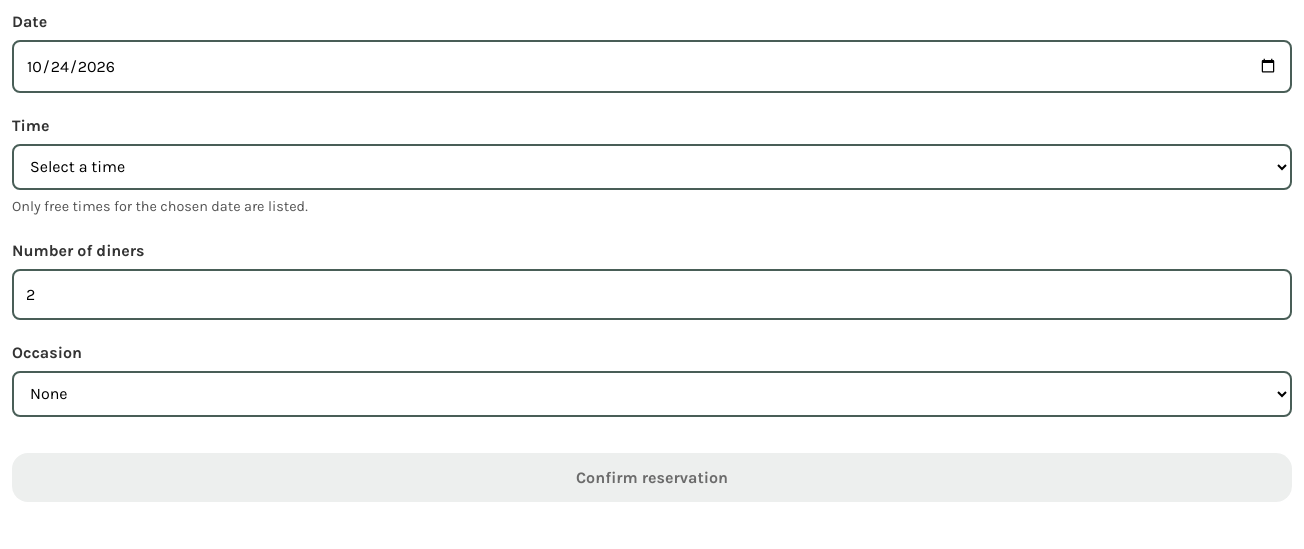
it: shows an error when the number of diners is empty
Clear the number field labelled "Number of diners" at (652, 295), box x1=12 y1=269 x2=1292 y2=320
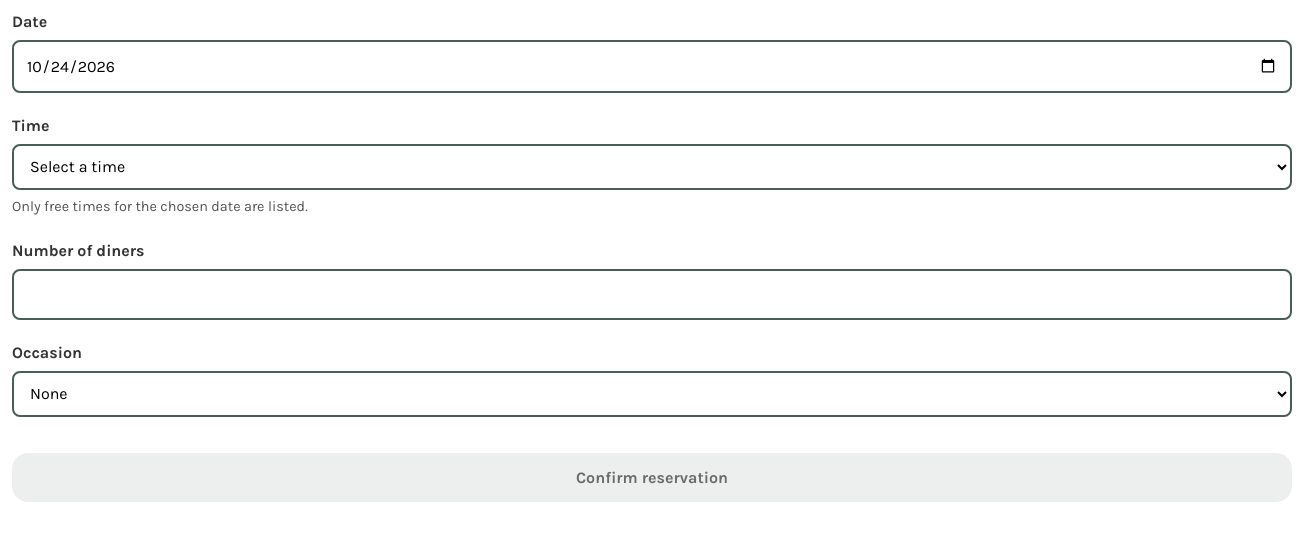
Leave the number field labelled "Number of diners", box x1=12 y1=269 x2=1292 y2=320
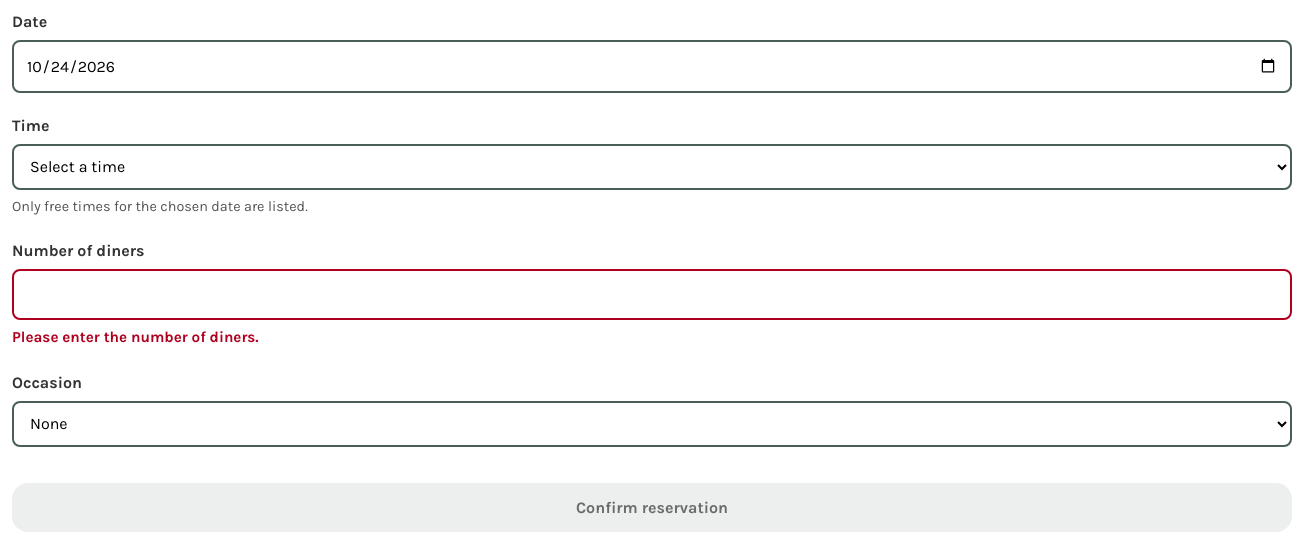
Now the text "Please enter the number of diners." is shown, box x1=12 y1=328 x2=259 y2=346
